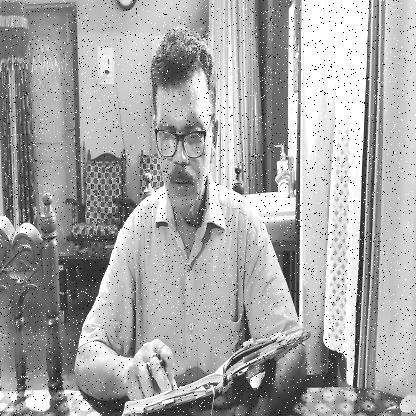Normal: (152, 36, 214, 218)
